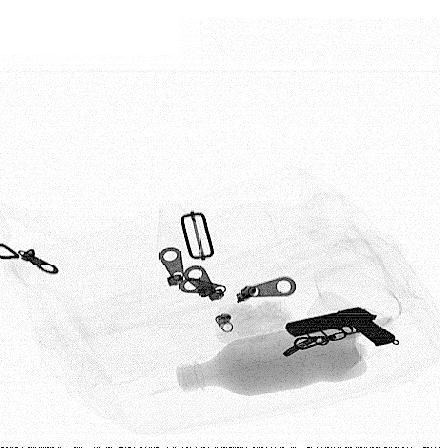Gun: (285, 305, 398, 347)
